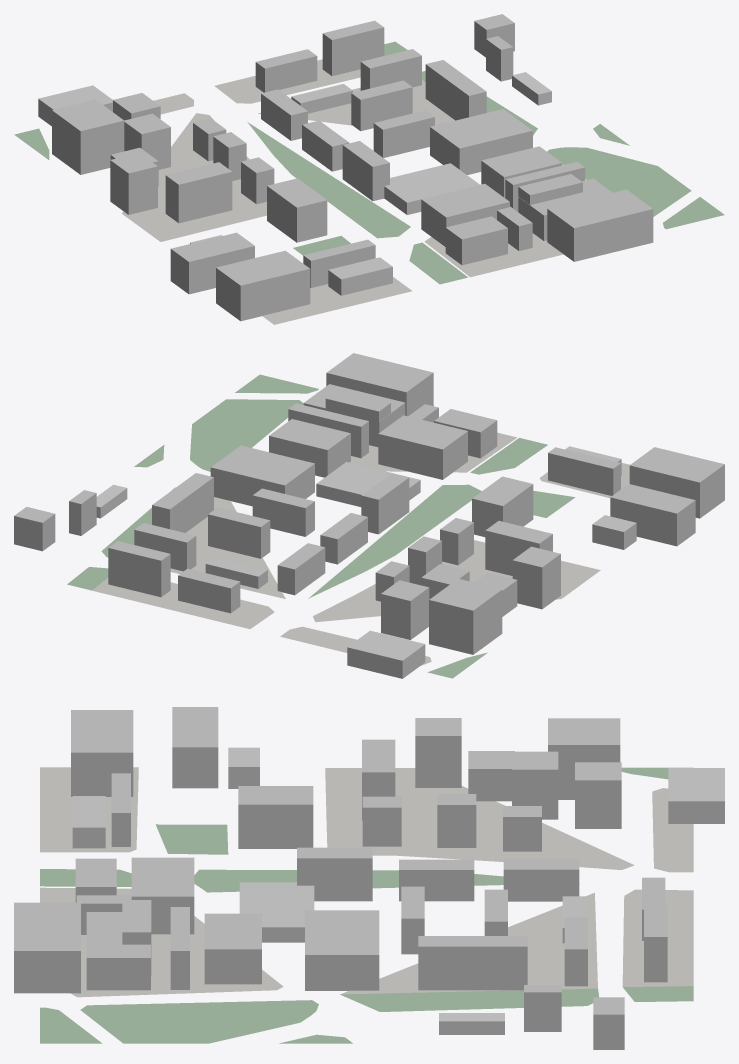
Rendered from 104_107_mid.glb.
3 views of the same model, one above another, from view 1: azimuth 30°, elevation 25°; view 2: azimuth 150°, elevation 25°; view 3: azimuth 270°, elevation 25° (orthographic). The views are drawn at different scales.
Bounding box in the file's own units: 548 × 46.49 × 544.
